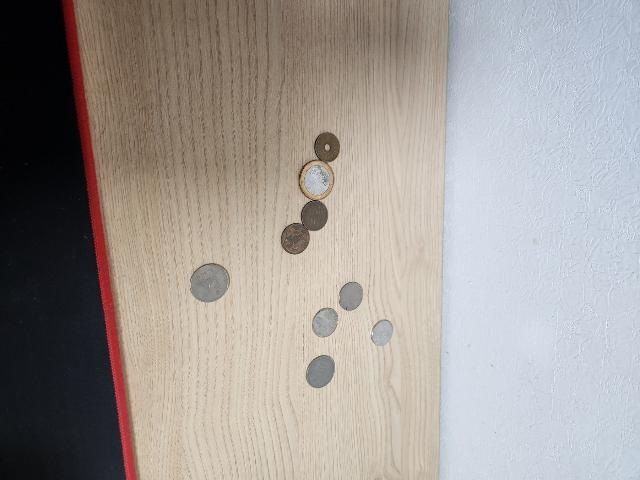coin: (187, 263, 231, 303), (300, 158, 334, 200), (306, 354, 336, 390), (280, 224, 312, 254), (315, 132, 341, 162), (303, 201, 329, 231), (339, 280, 363, 312), (312, 308, 338, 336), (370, 319, 394, 347)
